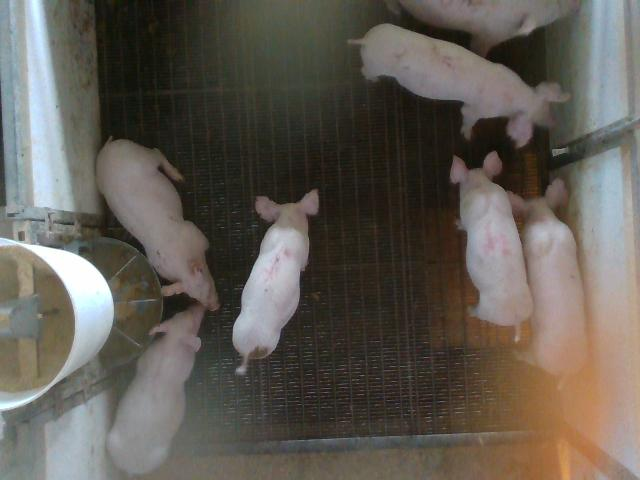pig-4: (450, 151, 532, 341)
pig-5: (232, 190, 319, 374)
